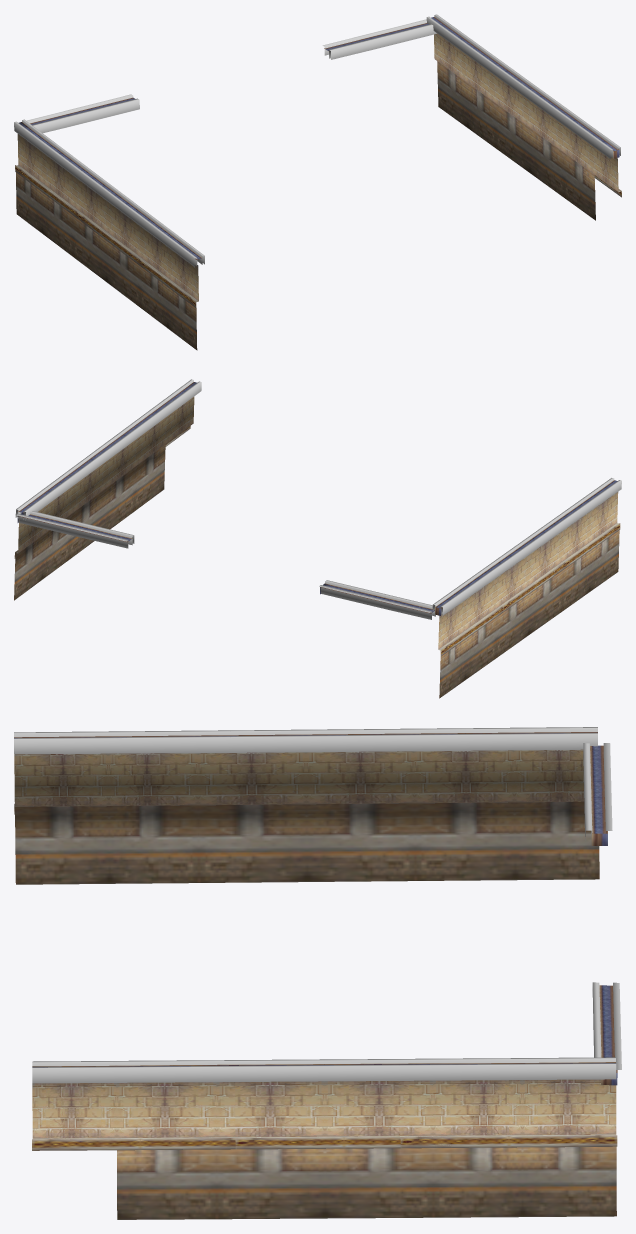
File: S_Build_City094_A.FBX
3 views of the same model, one above another, from view 1: azimuth 30°, elevation 25°; view 2: azimuth 150°, elevation 25°; view 3: azimuth 270°, elevation 25° (orthographic). The views are drawn at different scales.
Parts seen in each view (by area): view 1: S_Build_City094_001, S_Build_City094_002, S_Build_City094_003, S_Build_City094_004; view 2: S_Build_City094_001, S_Build_City094_002, S_Build_City094_004, S_Build_City094_003; view 3: S_Build_City094_001, S_Build_City094_002, S_Build_City094_004, S_Build_City094_003.
Part boxes in pixels (x1,y1,x2,y2): S_Build_City094_001: (14,119,204,350); S_Build_City094_002: (426,14,621,220); S_Build_City094_003: (322,19,436,59); S_Build_City094_004: (20,94,139,133); S_Build_City094_001: (432,478,621,698); S_Build_City094_002: (14,379,201,600); S_Build_City094_004: (319,580,435,619); S_Build_City094_003: (16,511,134,548); S_Build_City094_001: (14,727,599,884); S_Build_City094_002: (32,1057,617,1219); S_Build_City094_004: (583,743,612,845); S_Build_City094_003: (592,982,621,1085).
Bounding box in the file's own units: 7300 × 5509 × 1562.
